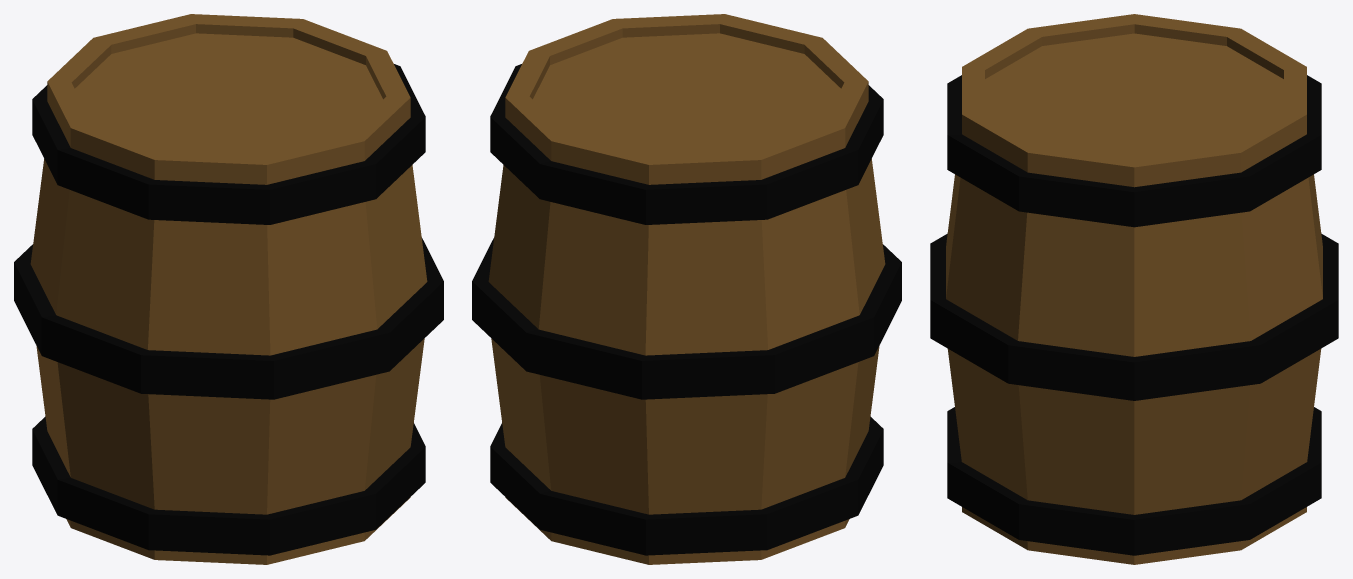
File: Barrel.fbx
The picture shows the model from 3 angles, left to right: view 1: azimuth 30°, elevation 25°; view 2: azimuth 150°, elevation 25°; view 3: azimuth 270°, elevation 25°; orthographic projection.
Parts seen in each view (by area): view 1: Barrel; view 2: Barrel; view 3: Barrel.
Part boxes in pixels (bbox=[...]): Barrel: bbox=[14, 14, 443, 564]; Barrel: bbox=[472, 14, 901, 564]; Barrel: bbox=[930, 14, 1338, 564].
Size of the model in its own units: 225 by 237 by 242.
